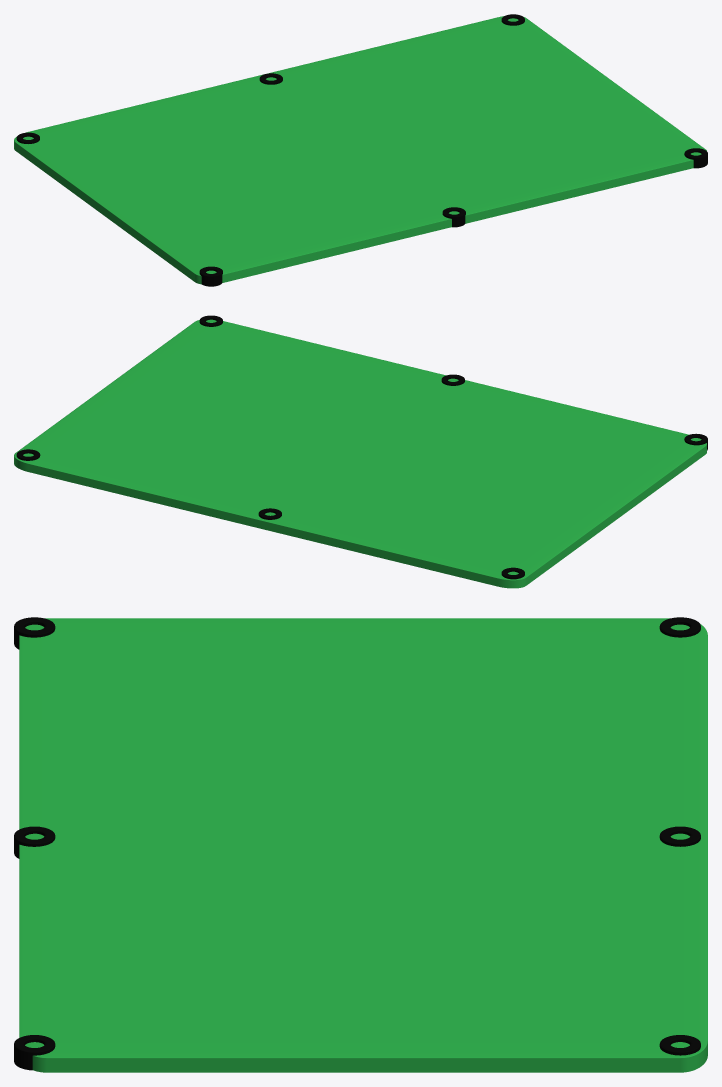
File: PoolMatte.glb
3 views of the same model, one above another, from view 1: azimuth 30°, elevation 25°; view 2: azimuth 150°, elevation 25°; view 3: azimuth 270°, elevation 25° (orthographic). The views are drawn at different scales.
Parts seen in each view (by area): view 1: Box; view 2: Box; view 3: Box, Tube 5, Tube, Tube 3.
Part boxes in pixels (x1,y1,x2,y2): Box: (14,16,706,284); Box: (14,319,706,588); Box: (19,618,707,1072); Tube 5: (14,1035,55,1070); Tube: (14,617,55,649); Tube 3: (14,826,55,858).
Size of the model in its own units: 0.3 by 0.006 by 0.2.
